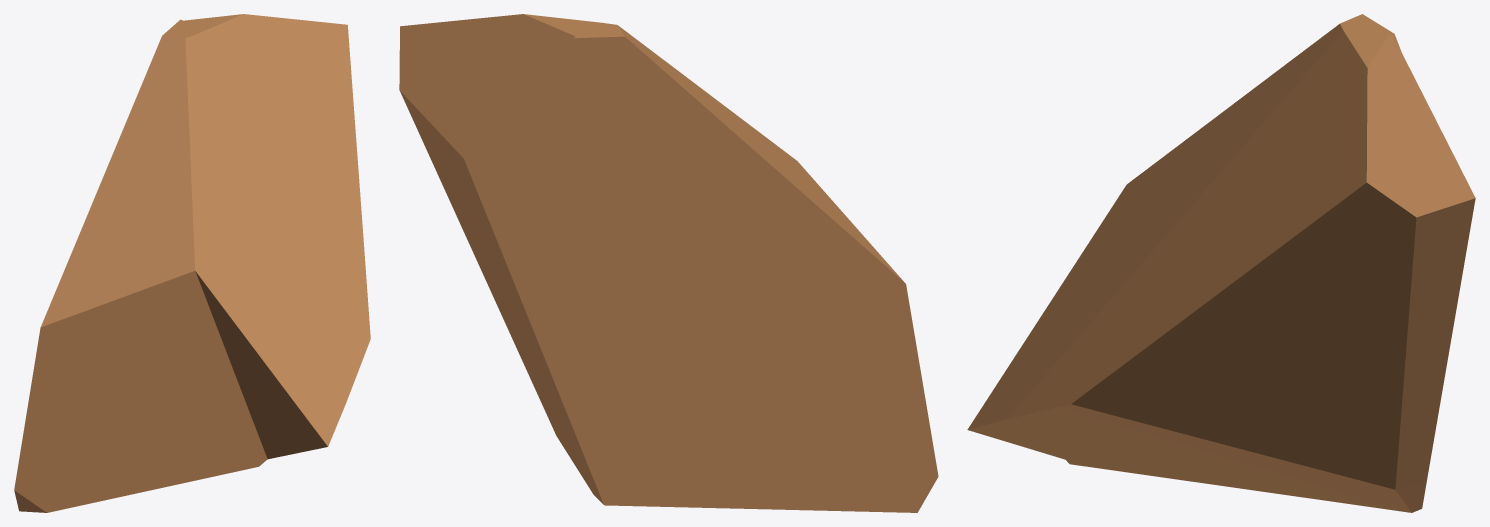
The model's file is asteroid_5_2.glb.
3 renders of one model, left to right at view 1: azimuth 30°, elevation 25°; view 2: azimuth 150°, elevation 25°; view 3: azimuth 270°, elevation 25°, orthographic. The views are drawn at different scales.
Parts seen in each view (by area): view 1: Asteriod_cell_5_2; view 2: Asteriod_cell_5_2; view 3: Asteriod_cell_5_2.
Part boxes in pixels (x1,y1,x2,y2): Asteriod_cell_5_2: (14, 14, 370, 512); Asteriod_cell_5_2: (399, 14, 938, 512); Asteriod_cell_5_2: (967, 14, 1475, 512).
Bounding box in the file's own units: 1.19 × 1.13 × 1.01.
